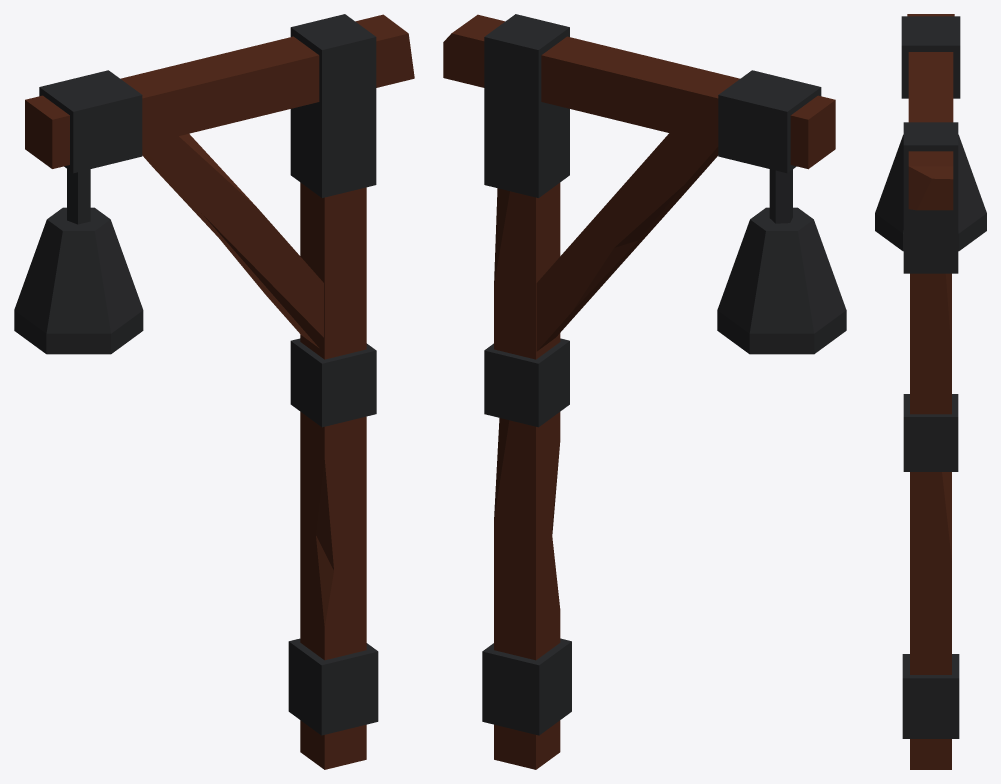
Rendered from Lamp.fbx.
3 views of the same model, side by side, from view 1: azimuth 30°, elevation 25°; view 2: azimuth 150°, elevation 25°; view 3: azimuth 270°, elevation 25° (orthographic). The views are drawn at different scales.
Visible parts, largest first — view 1: Lamp; view 2: Lamp; view 3: Lamp.
Part boxes in pixels (<box>): Lamp: <box>14,14,414,769</box>; Lamp: <box>443,14,846,769</box>; Lamp: <box>875,14,986,769</box>.
Bounding box in the file's own units: 49.46 × 91.5 × 14.8.
